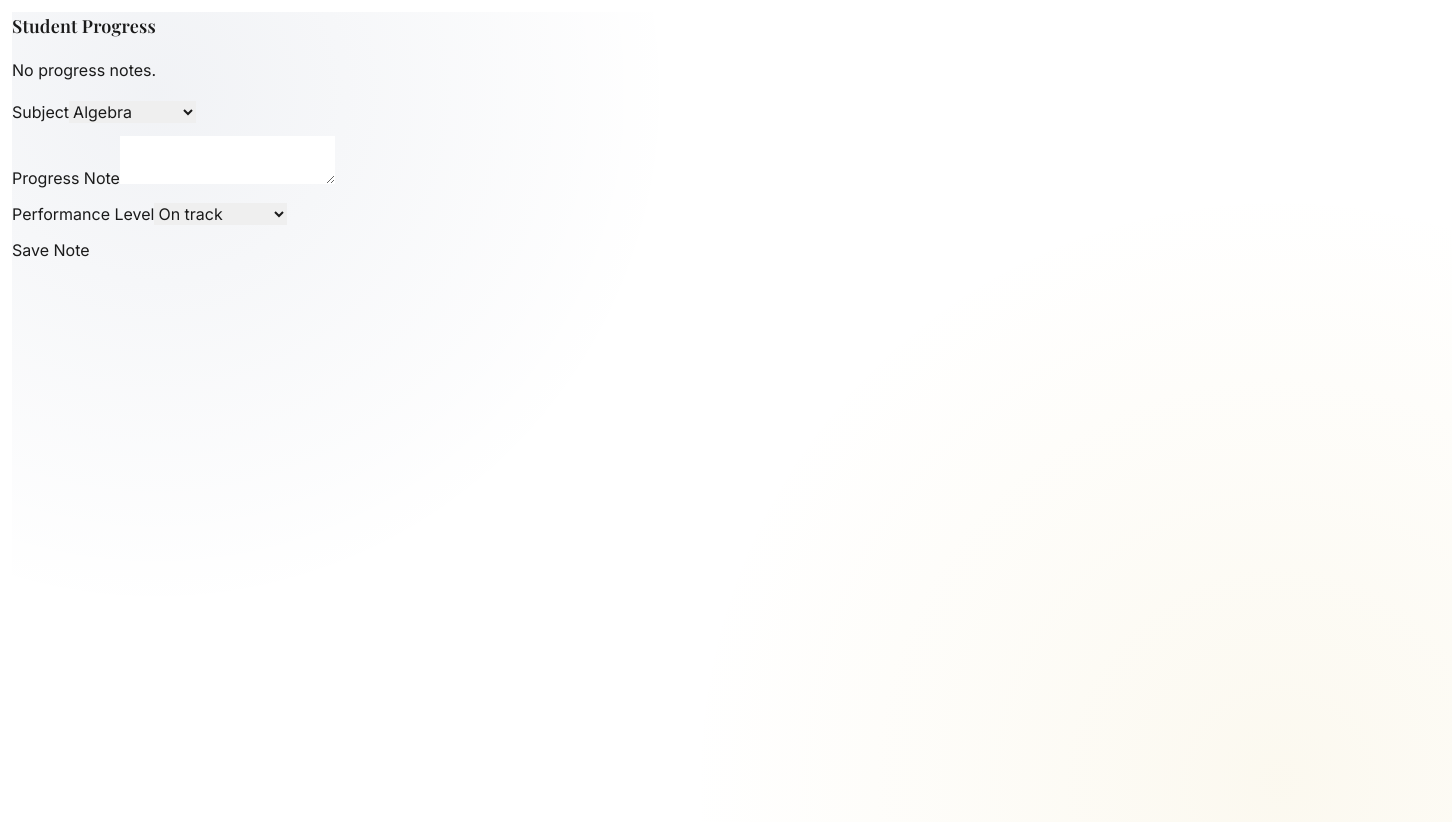
Test case: StudentProgressManager › validates performance level values before submit
Type "Useful progress note." into the text box labelled "Progress Note" at (227,160), box [120,136,335,184]
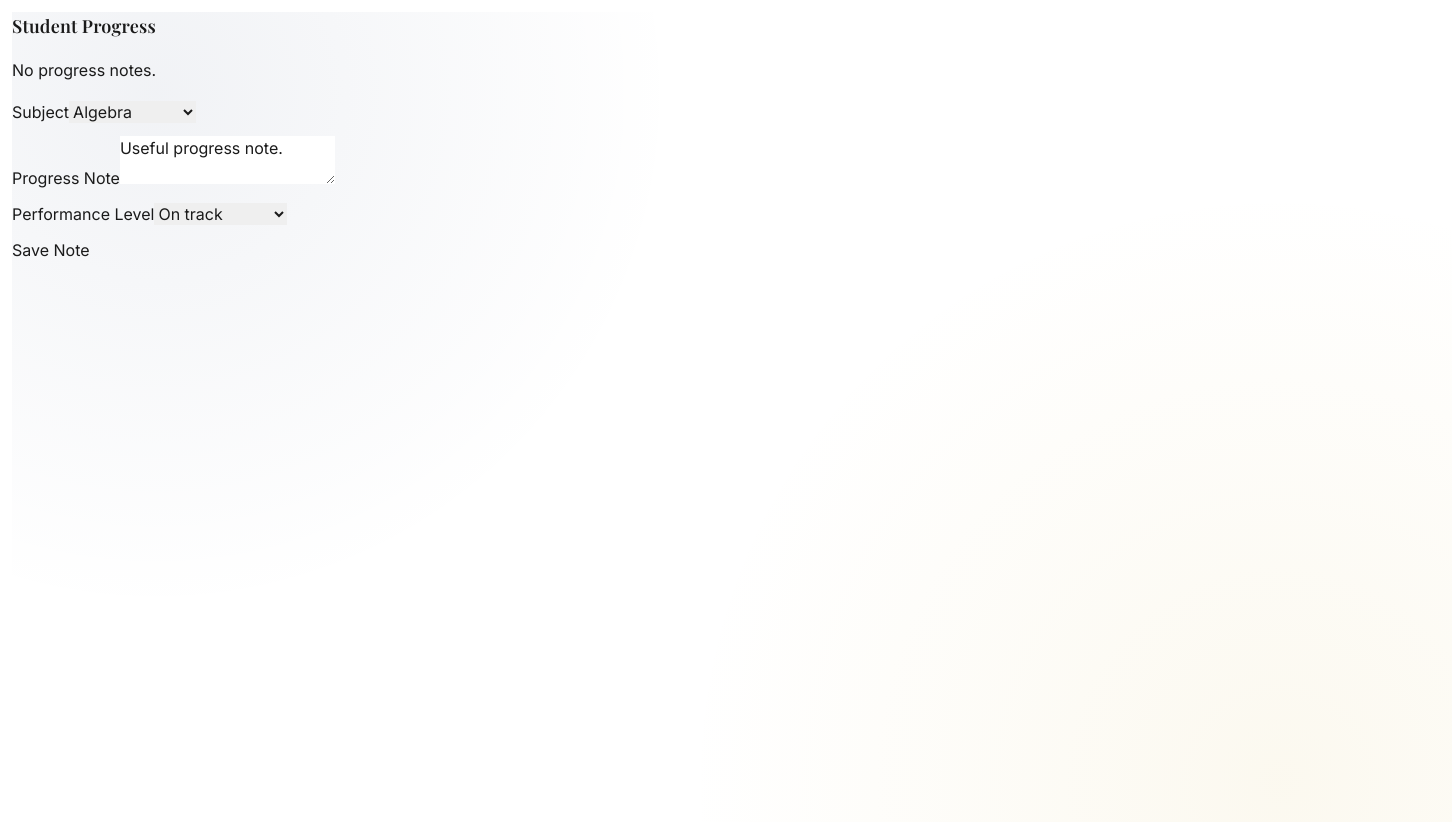
Select "AVERAGE" in the dropdown labelled "Performance Level" at (221,214), box [154,203,287,225]
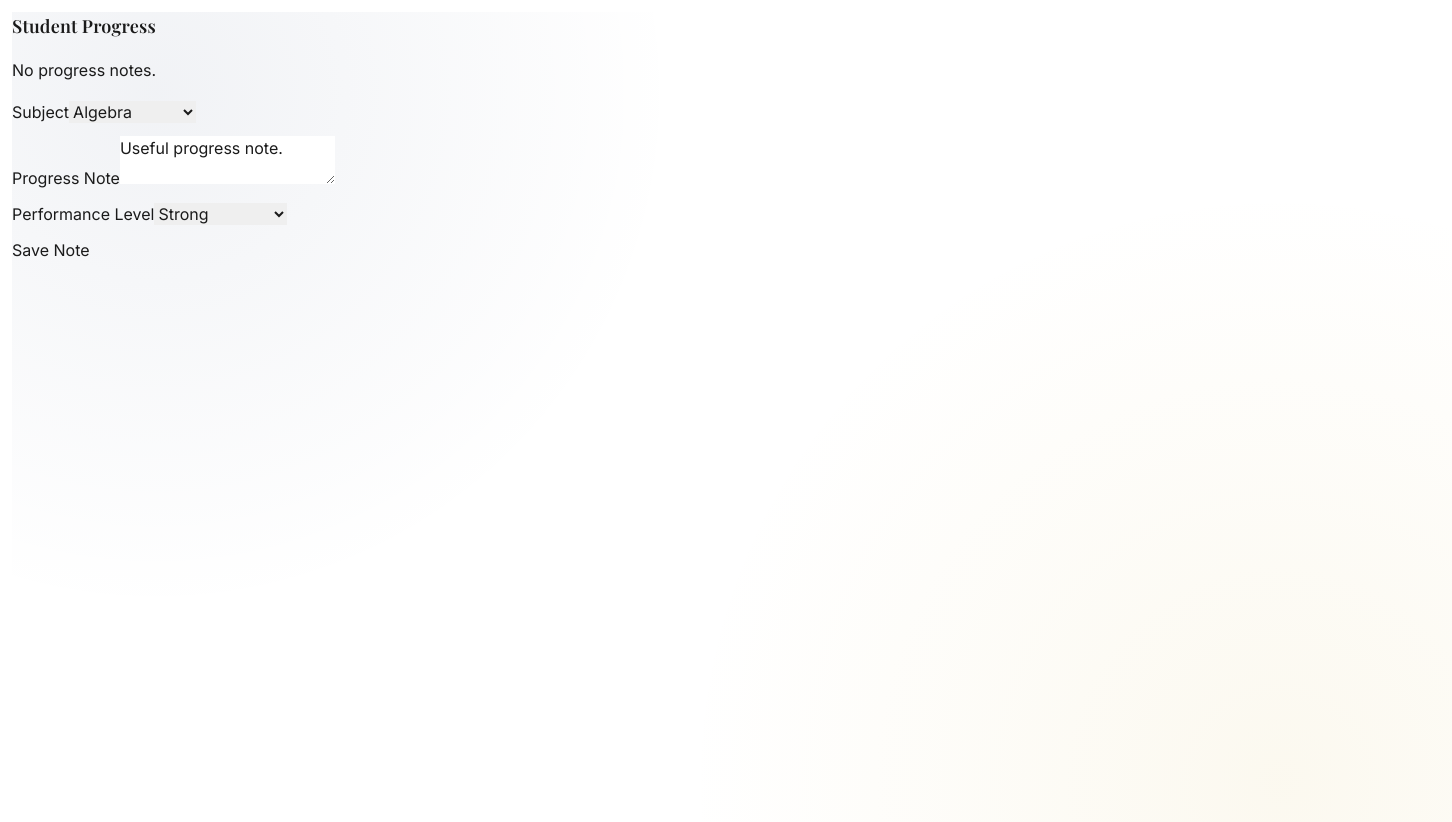
Click the button "Save Note" at (51,250), box [12,238,90,262]
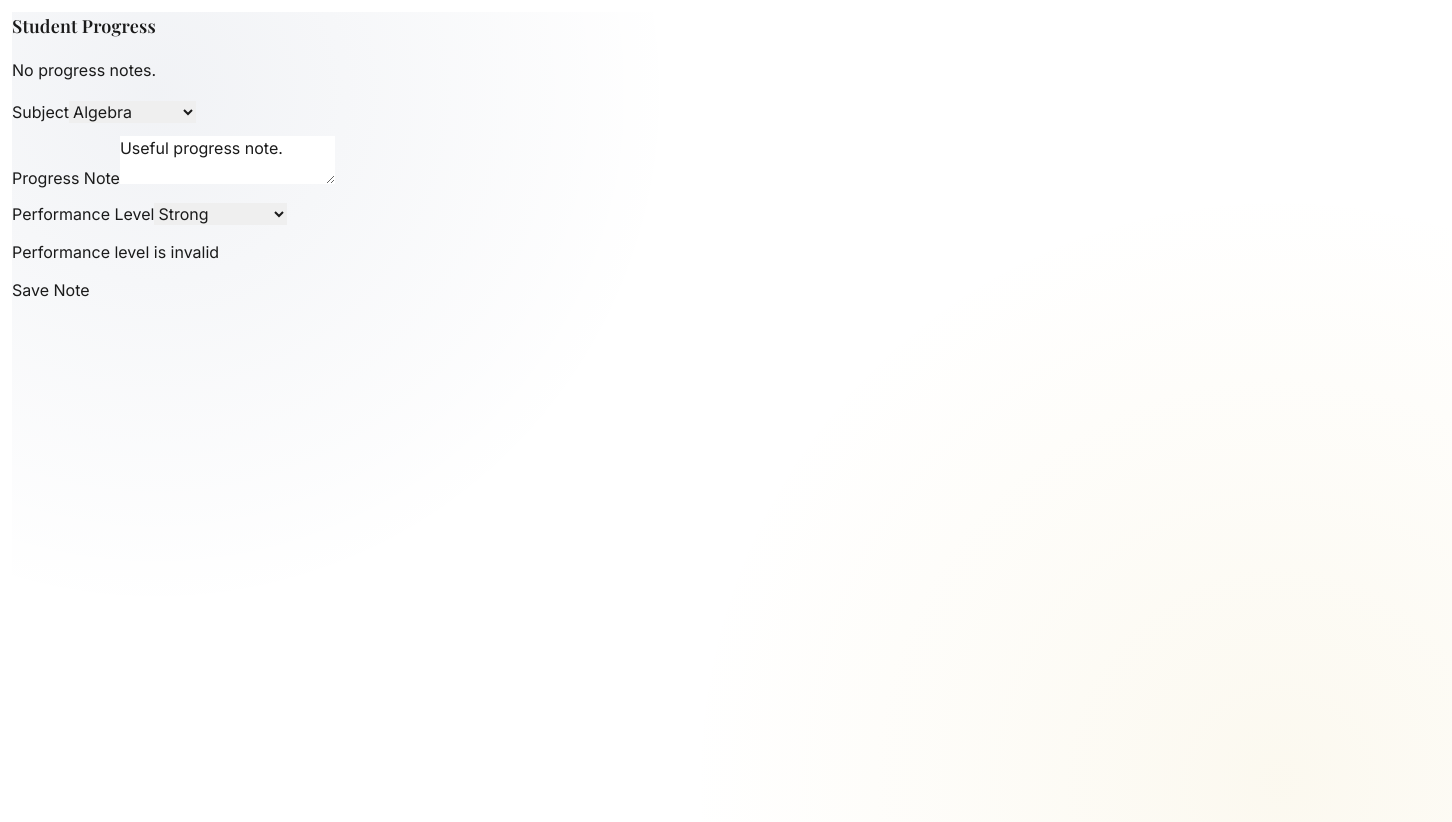
Expected: the text "Performance level is invalid" is shown, [12,242,219,262]
